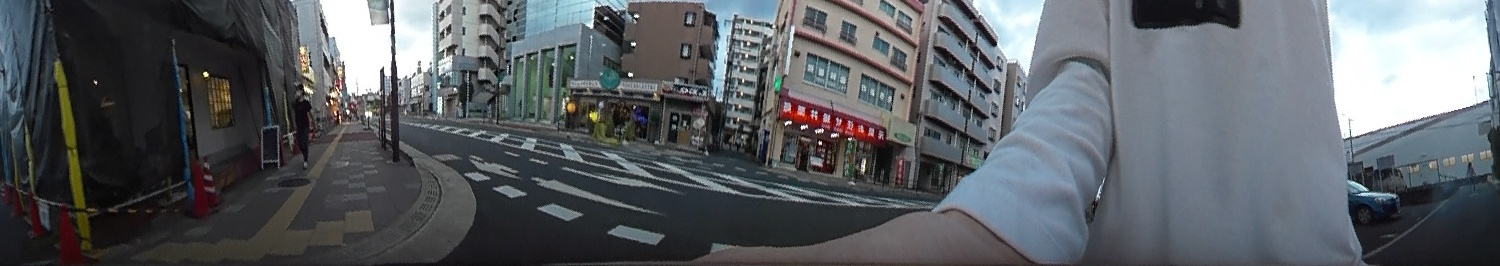person: (283, 76, 320, 169)
